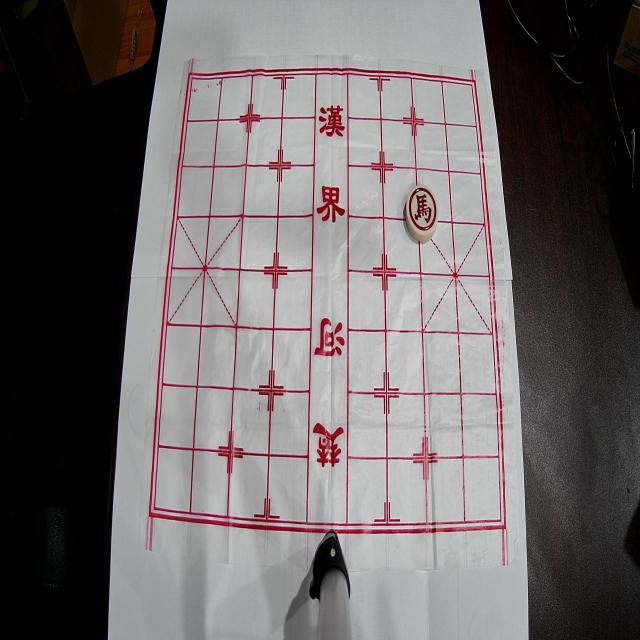red-horse: (406, 184, 438, 242)
